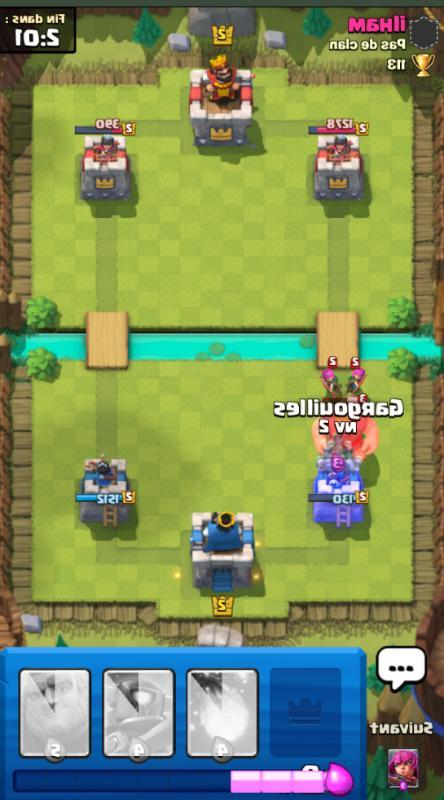enemy_archers: (344, 358, 369, 398), (318, 356, 342, 395)
